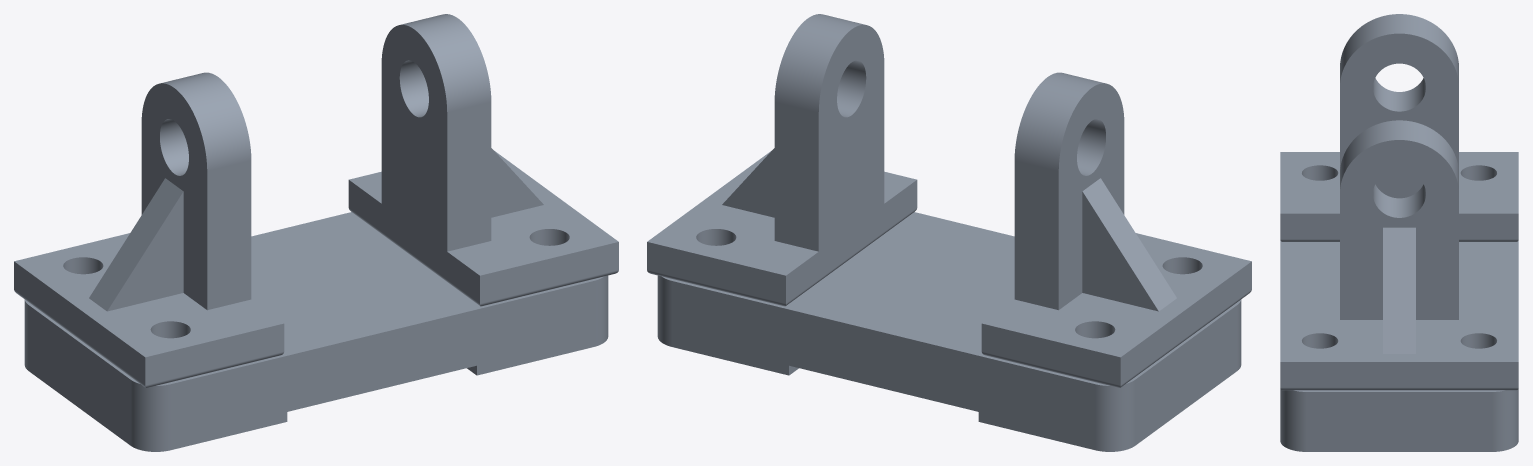
The model's file is step_17.glb.
The picture shows the model from 3 angles, left to right: view 1: azimuth 30°, elevation 25°; view 2: azimuth 150°, elevation 25°; view 3: azimuth 270°, elevation 25°; orthographic projection. The views are drawn at different scales.
Parts seen in each view (by area): view 1: part__base, part__bracket (left), part__bracket (right); view 2: part__base, part__bracket (left), part__bracket (right); view 3: part__bracket (right), part__bracket (left), part__base.
Part boxes in pixels (box(x1,y1,x2,y2)): part__base: box(24, 212, 608, 451); part__bracket (left): box(14, 72, 284, 387); part__bracket (right): box(348, 14, 618, 306); part__base: box(657, 212, 1241, 451); part__bracket (left): box(981, 72, 1251, 387); part__bracket (right): box(647, 14, 917, 306); part__bracket (right): box(1280, 120, 1518, 390); part__bracket (left): box(1280, 14, 1518, 241); part__base: box(1280, 240, 1518, 451).
Bounding box in the file's own units: 150 × 90 × 72.
